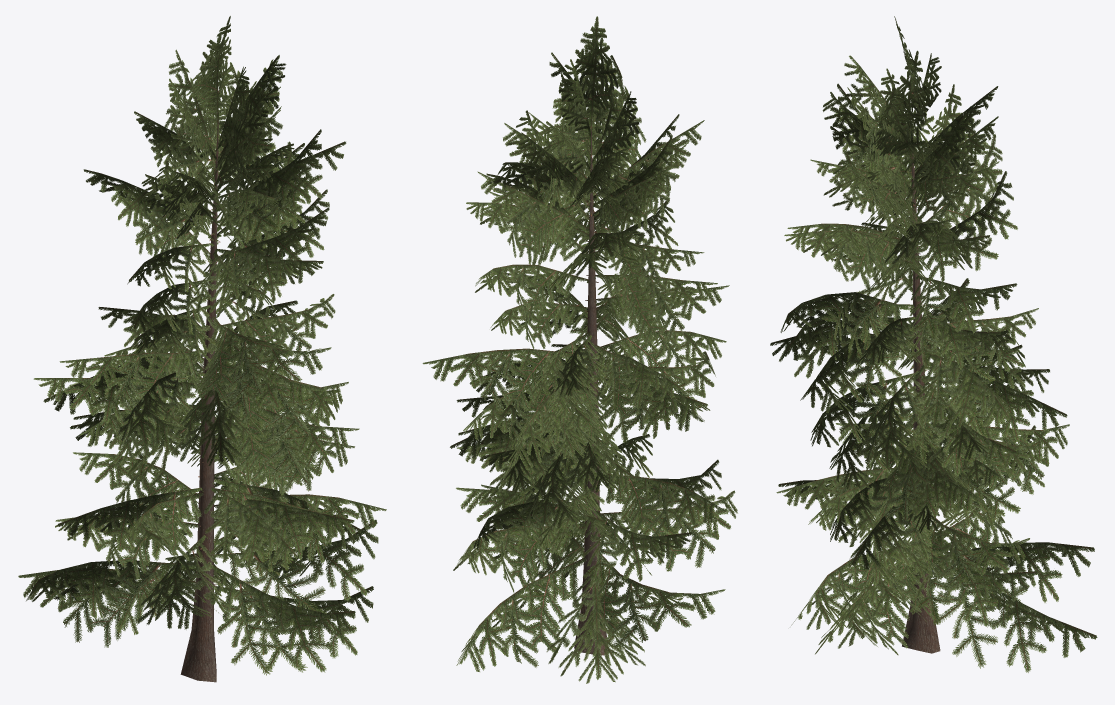
File: Pinus_Sylvestris_Autumn_Young.glb
3 renders of one model, left to right at view 1: azimuth 30°, elevation 25°; view 2: azimuth 150°, elevation 25°; view 3: azimuth 270°, elevation 25°, orthographic. The views are drawn at different scales.
Parts seen in each view (by area): view 1: Pinus_Sylvestris_Autumn_Young__LOD3; view 2: Pinus_Sylvestris_Autumn_Young__LOD3; view 3: Pinus_Sylvestris_Autumn_Young__LOD3.
Part boxes in pixels (<box>): Pinus_Sylvestris_Autumn_Young__LOD3: <box>18,16,386,682</box>; Pinus_Sylvestris_Autumn_Young__LOD3: <box>422,16,737,683</box>; Pinus_Sylvestris_Autumn_Young__LOD3: <box>770,16,1097,672</box>.
Bounding box in the file's own units: 7.37 × 14.57 × 6.9.
3 materials, 3 textured.
